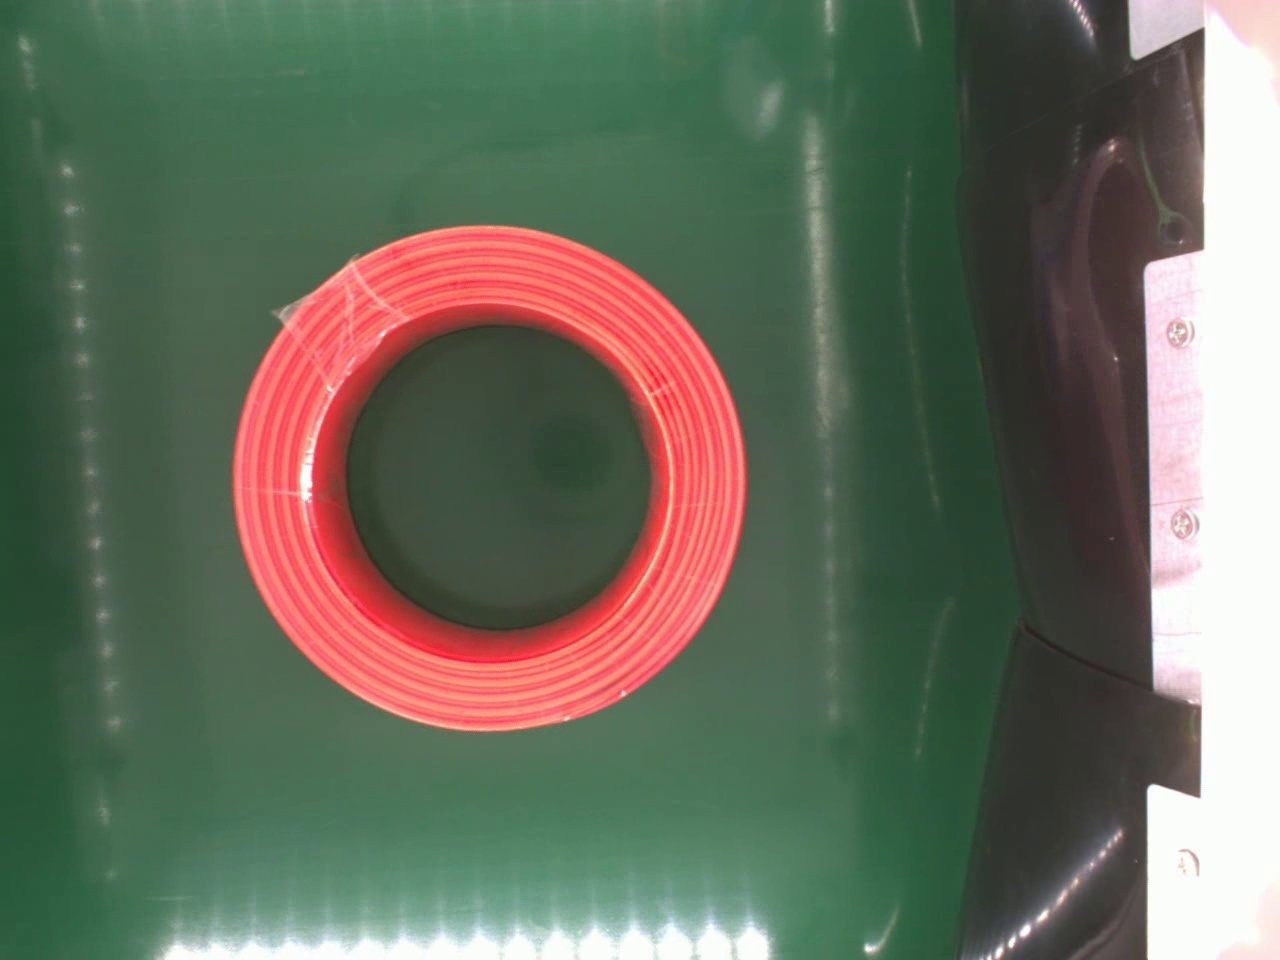red: (230, 222, 751, 741)
